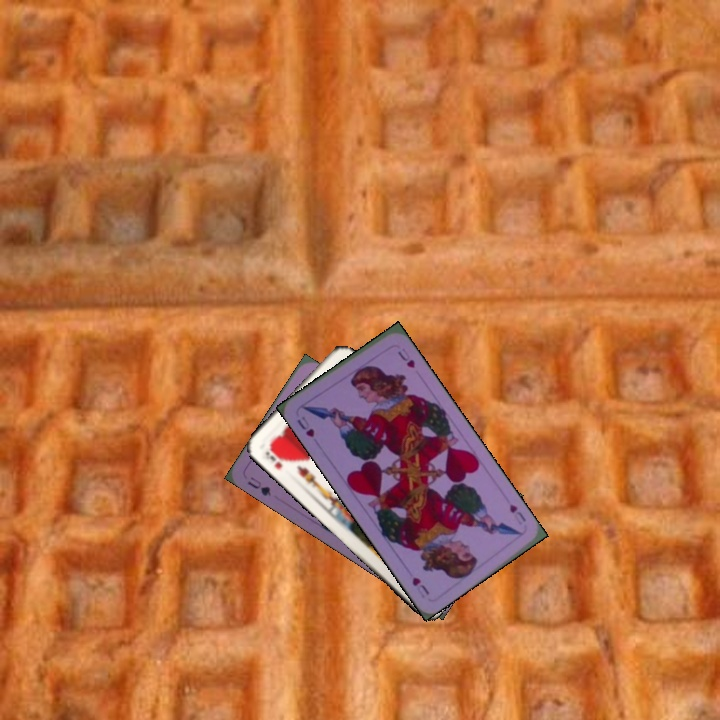GU: (243, 472, 274, 499)
HK: (262, 443, 289, 472)
HU: (293, 412, 317, 440), (505, 500, 529, 524)
